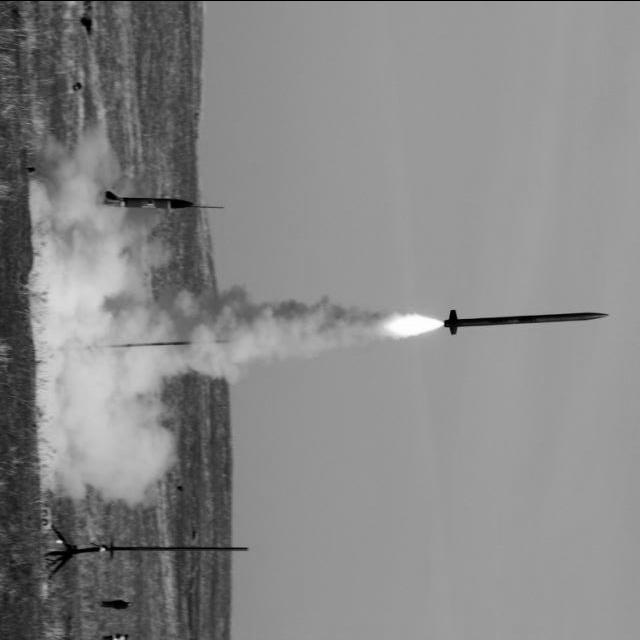missile: (440, 304, 614, 336), (98, 186, 198, 212)
